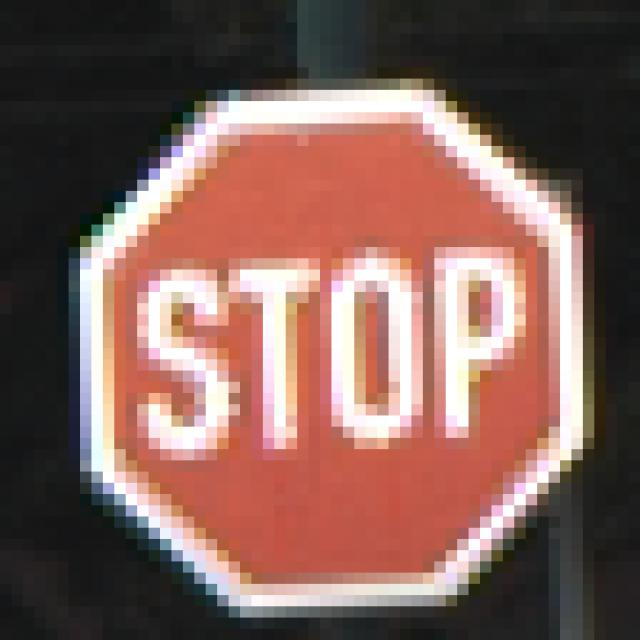STOP: (58, 57, 584, 585)
